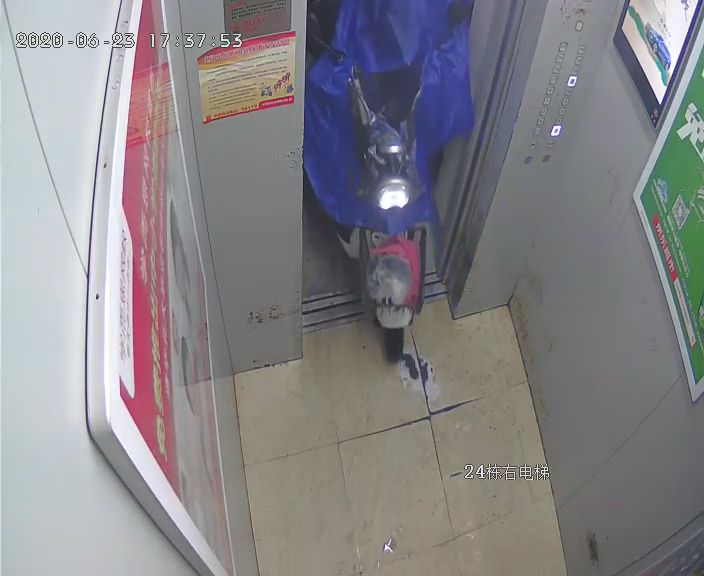Electric-bicycle: (307, 12, 472, 347)
